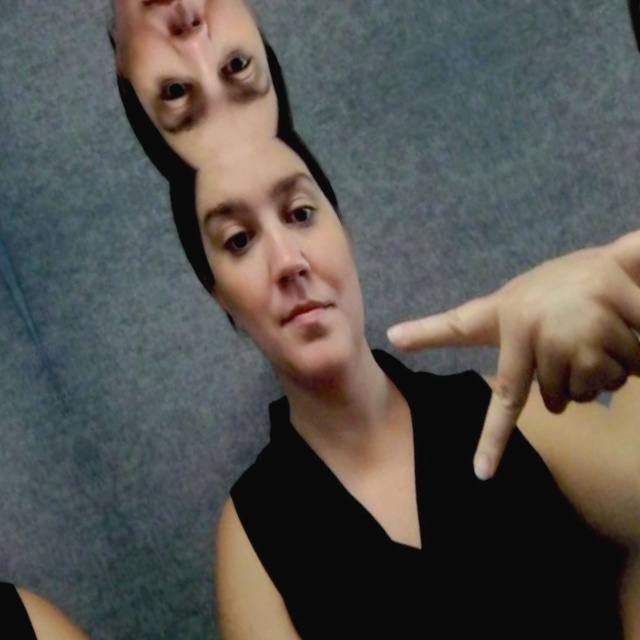Scissors: (365, 229, 618, 501)
